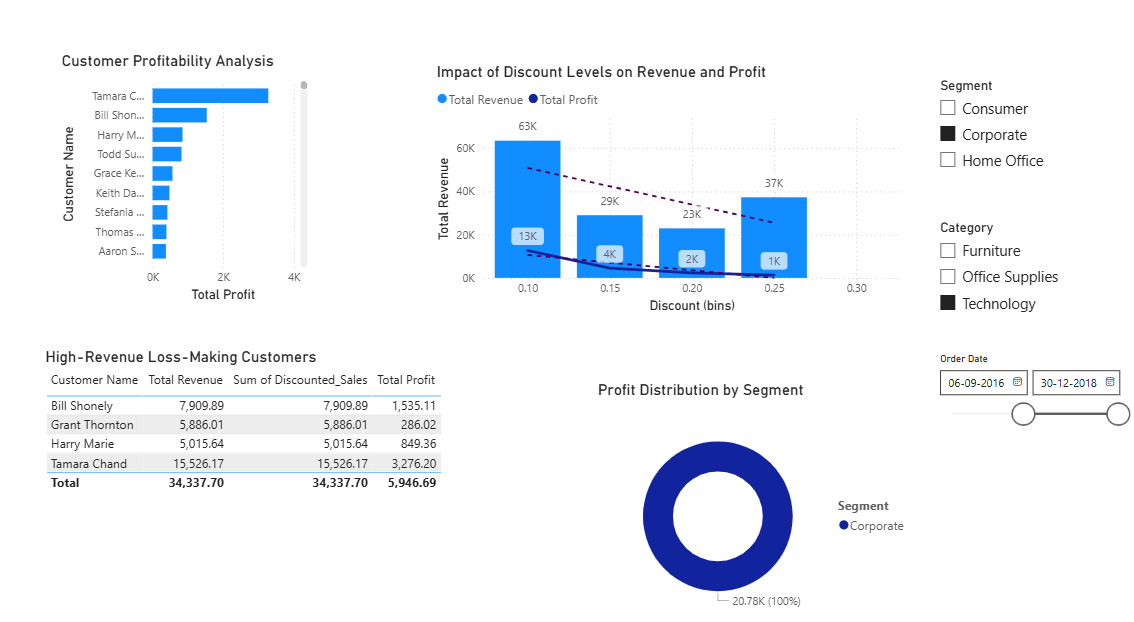

The page's visual inventory and layout, read from the dashboard file:
{"tool":"powerbi","page":{"name":"Page 1","canvas":[1280,720],"ordinal":0},"visuals":[{"type":"clusteredBarChart","title":"Customer Profitability Analysis","fields":{"Category":["processed_sales.Customer Name"],"Y":["processed_sales.Total Profit"]},"box":[94.7,79.6,279.9,279.9],"z":0},{"type":"tableEx","title":"High-Revenue Loss-Making Customers","fields":{"Values":["processed_sales.Customer Name","processed_sales.Total Revenue","Sum(processed_sales.Discounted_Sales)","processed_sales.Total Profit"]},"box":[76.8,404.8,505,315.6],"z":1000},{"type":"donutChart","title":"Profit Distribution by Segment","fields":{"Category":["processed_sales.Segment"],"Y":["processed_sales.Total Profit"]},"box":[683.4,440.5,355.4,279.9],"z":2000},{"type":"slicer","fields":{"Values":["processed_sales.Category"]},"box":[1051.1,259.3,229.2,123.5],"z":3000},{"type":"slicer","fields":{"Values":["processed_sales.Segment"]},"box":[1051.1,102.9,229.2,138.6],"z":4000},{"type":"slicer","fields":{"Values":["processed_sales.Order Date"]},"box":[1051.1,404.8,229.2,107],"z":5000},{"type":"lineClusteredColumnComboChart","title":"Impact of Discount Levels on Revenue and Profit","fields":{"Category":["processed_sales.Discount (bins)"],"Y":["processed_sales.Total Revenue"],"Y2":["processed_sales.Total Profit"]},"box":[506.3,91.9,518.7,279.9],"z":6000}]}

Visuals, with their boxes in screenshot pixels (x1, y1, x2, y2), scaled from the page's 1280x720 canvas onto the 1134x622 screenshot:
"Customer Profitability Analysis" clusteredBarChart: crop(84, 69, 332, 311)
"High-Revenue Loss-Making Customers" tableEx: crop(68, 350, 515, 621)
"Profit Distribution by Segment" donutChart: crop(605, 381, 920, 621)
slicer - processed_sales.Category: crop(931, 224, 1133, 331)
slicer - processed_sales.Segment: crop(931, 89, 1133, 209)
slicer - processed_sales.Order Date: crop(931, 350, 1133, 442)
"Impact of Discount Levels on Revenue and Profit" lineClusteredColumnComboChart: crop(449, 79, 908, 321)
